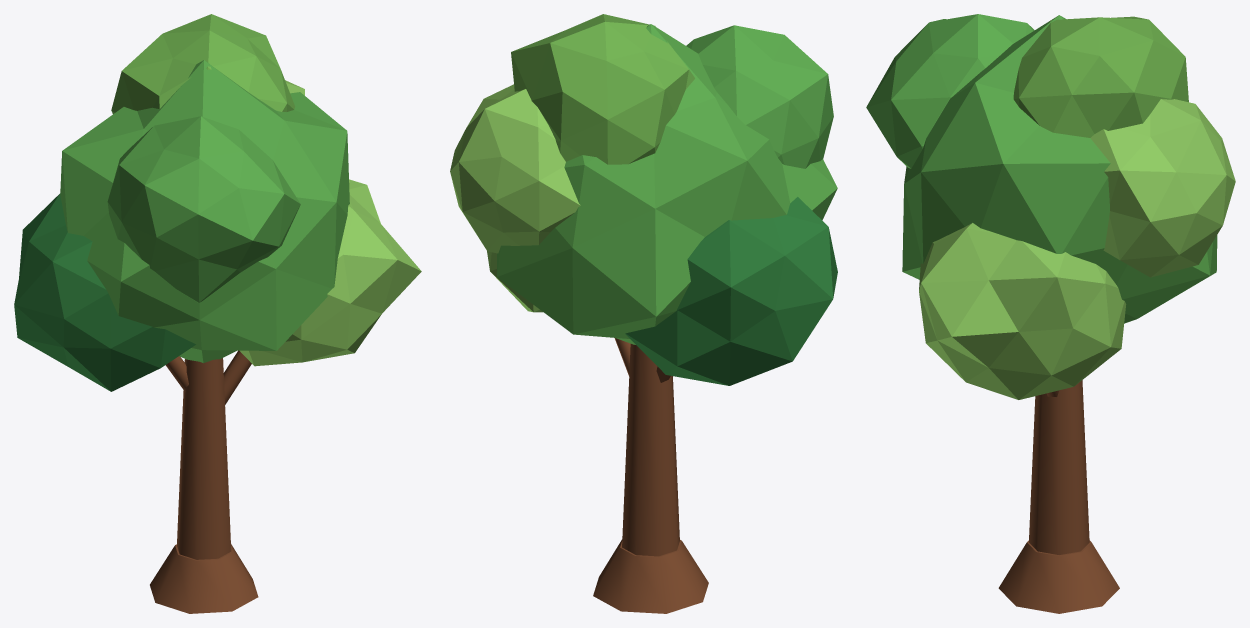
File: tree.glb
3 views of the same model, side by side, from view 1: azimuth 30°, elevation 25°; view 2: azimuth 150°, elevation 25°; view 3: azimuth 270°, elevation 25° (orthographic). The views are drawn at different scales.
Visible parts, largest first — view 1: root; view 2: root; view 3: root.
Boxes of the visible parts, x1,y1,x2,y2 form: root: (14, 14, 421, 613); root: (450, 14, 837, 613); root: (866, 14, 1235, 613).
Size of the model in its own units: 1.97 by 2.92 by 1.68.
